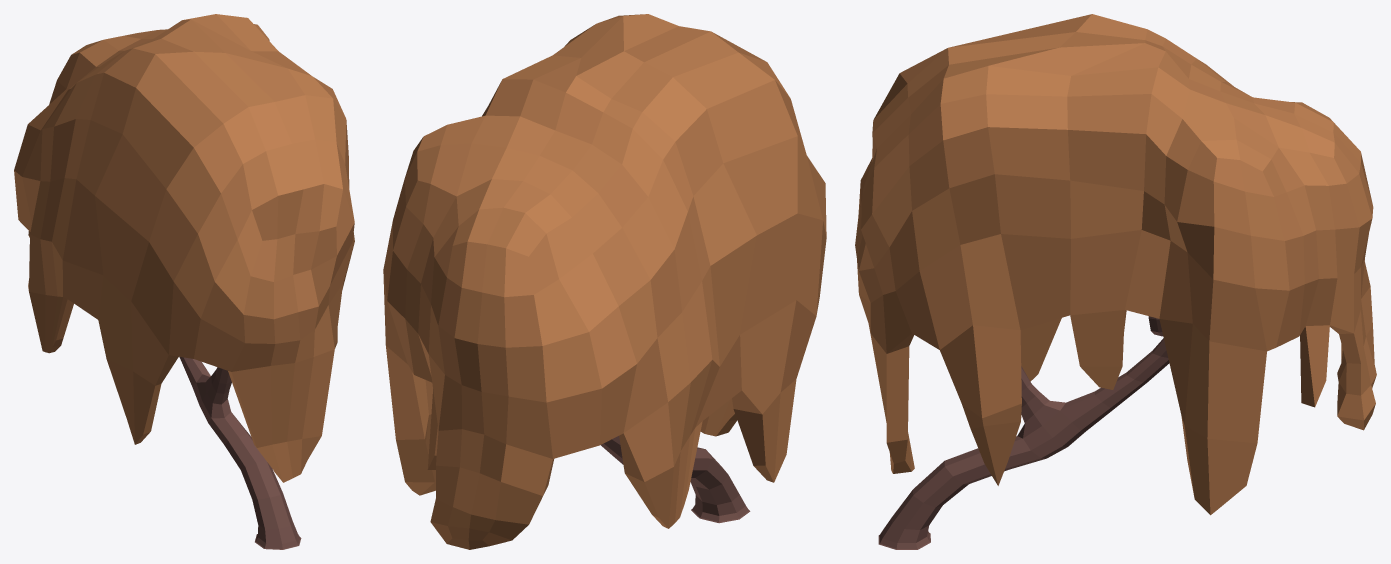
File: willow_autumn_2.glb
3 renders of one model, left to right at view 1: azimuth 30°, elevation 25°; view 2: azimuth 150°, elevation 25°; view 3: azimuth 270°, elevation 25°, orthographic. The views are drawn at different scales.
Parts seen in each view (by area): view 1: Willow_Autumn_2; view 2: Willow_Autumn_2; view 3: Willow_Autumn_2.
Boxes of the visible parts, x1,y1,x2,y2 form: Willow_Autumn_2: (14,14,354,549); Willow_Autumn_2: (383,14,826,549); Willow_Autumn_2: (855,14,1376,549).
Size of the model in its own units: 4.89 by 8.31 by 7.77.
